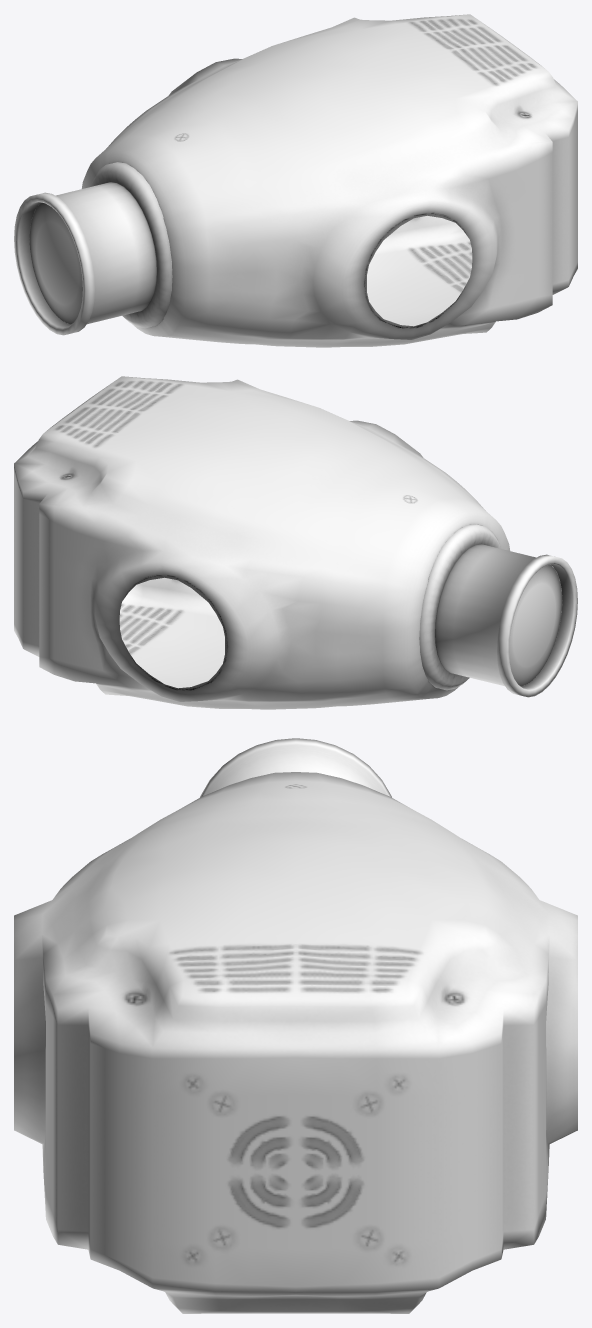
File: fixture_head.obj
The picture shows the model from 3 angles, top to bottom: view 1: azimuth 30°, elevation 25°; view 2: azimuth 150°, elevation 25°; view 3: azimuth 270°, elevation 25°; orthographic projection. The views are drawn at different scales.
Visible parts, largest first — view 1: Plane.002_Plane.004; view 2: Plane.002_Plane.004; view 3: Plane.002_Plane.004.
Boxes of the visible parts, x1,y1,x2,y2 form: Plane.002_Plane.004: [14, 14, 577, 347]; Plane.002_Plane.004: [14, 376, 577, 709]; Plane.002_Plane.004: [14, 738, 577, 1313].
Size of the model in its own units: 265 by 126 by 185.
Materials: 1 (1 with a texture image).
